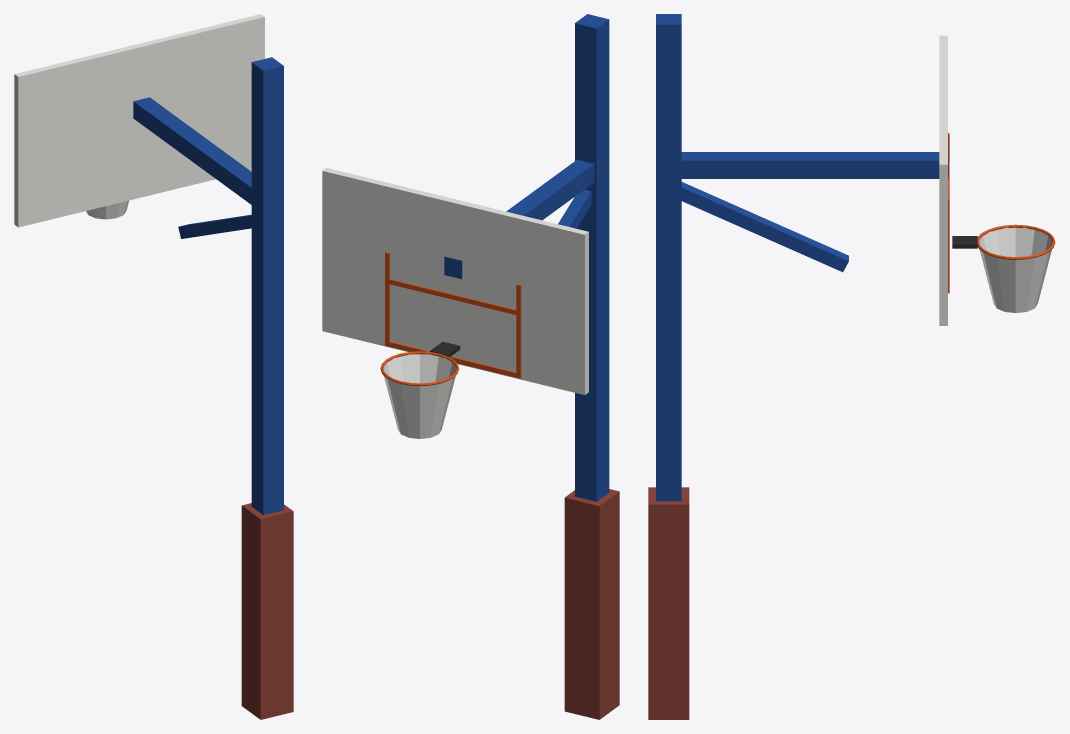
The model's file is h10-ring-basket.glb.
3 views of the same model, side by side, from view 1: azimuth 30°, elevation 25°; view 2: azimuth 150°, elevation 25°; view 3: azimuth 270°, elevation 25° (orthographic). The views are drawn at different scales.
Parts seen in each view (by area): view 1: EX_unri:papan-putih, EX_unri:tiang-biru, EX_unri:bantalan, EX_unri:jaring; view 2: EX_unri:papan-putih, EX_unri:tiang-biru, EX_unri:bantalan, EX_unri:jaring, EX_unri:ring-oranye; view 3: EX_unri:tiang-biru, EX_unri:bantalan, EX_unri:jaring, EX_unri:papan-putih, EX_unri:ring-oranye.
Boxes of the visible parts, bbox=[...] form: EX_unri:papan-putih: bbox=[14, 14, 264, 227]; EX_unri:tiang-biru: bbox=[133, 57, 283, 514]; EX_unri:bantalan: bbox=[241, 503, 293, 719]; EX_unri:jaring: bbox=[86, 200, 128, 219]; EX_unri:papan-putih: bbox=[322, 168, 588, 394]; EX_unri:tiang-biru: bbox=[444, 14, 609, 501]; EX_unri:bantalan: bbox=[564, 489, 619, 719]; EX_unri:jaring: bbox=[383, 354, 456, 438]; EX_unri:ring-oranye: bbox=[380, 252, 521, 386]; EX_unri:tiang-biru: bbox=[656, 14, 948, 501]; EX_unri:bantalan: bbox=[648, 487, 689, 719]; EX_unri:jaring: bbox=[979, 227, 1052, 312]; EX_unri:papan-putih: bbox=[939, 35, 947, 325]; EX_unri:ring-oranye: bbox=[948, 133, 1055, 293].
Size of the model in its own units: 1.8 by 4.5 by 2.4.
